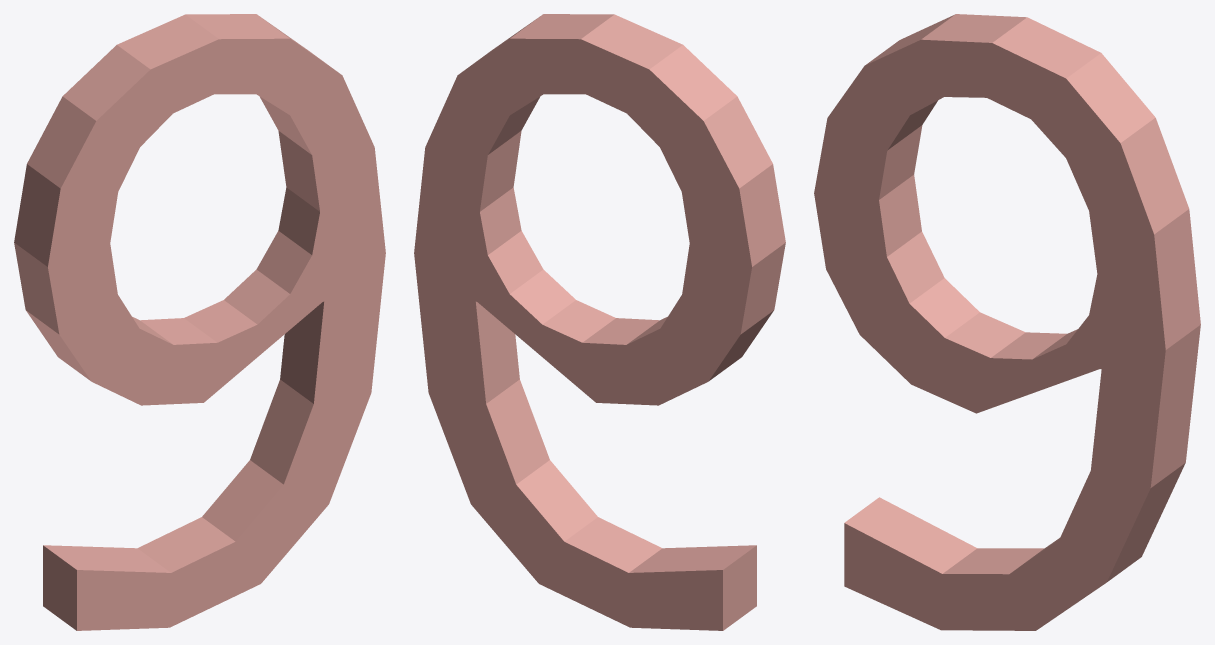
Rendered from tsifa8.fbx.
3 views of the same model, side by side, from view 1: azimuth 30°, elevation 25°; view 2: azimuth 150°, elevation 25°; view 3: azimuth 330°, elevation 25° (orthographic). The views are drawn at different scales.
Visible parts, largest first — view 1: Extrude_11; view 2: Extrude_11; view 3: Extrude_11.
Part boxes in pixels (x1=…): Extrude_11: x1=14, y1=14, x2=385, y2=630; Extrude_11: x1=414, y1=14, x2=785, y2=630; Extrude_11: x1=814, y1=14, x2=1200, y2=630.
Bounding box in the file's own units: 5.78 × 9.41 × 1.
